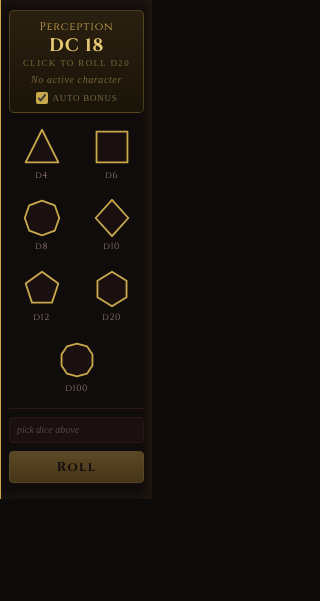
DiceTray — AC-008 no active character › shows "No active character" note in history
Click the button titled "d20": (112, 296) [79, 263, 144, 329]
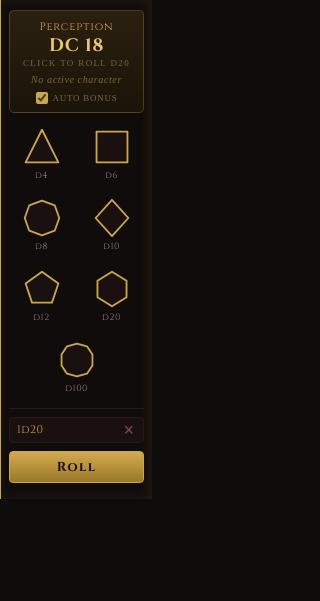
Click the button "Roll": (76, 467) [9, 451, 144, 483]
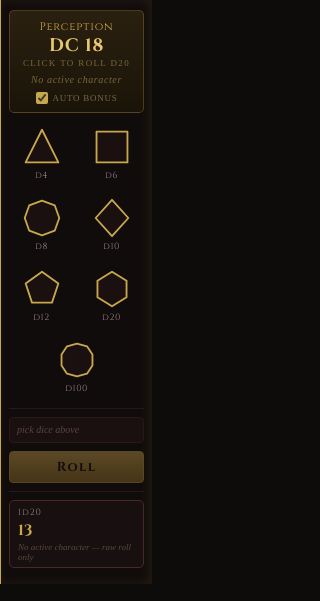
Check: the text "No active character — raw roll only" is shown, box [18, 542, 135, 562]
